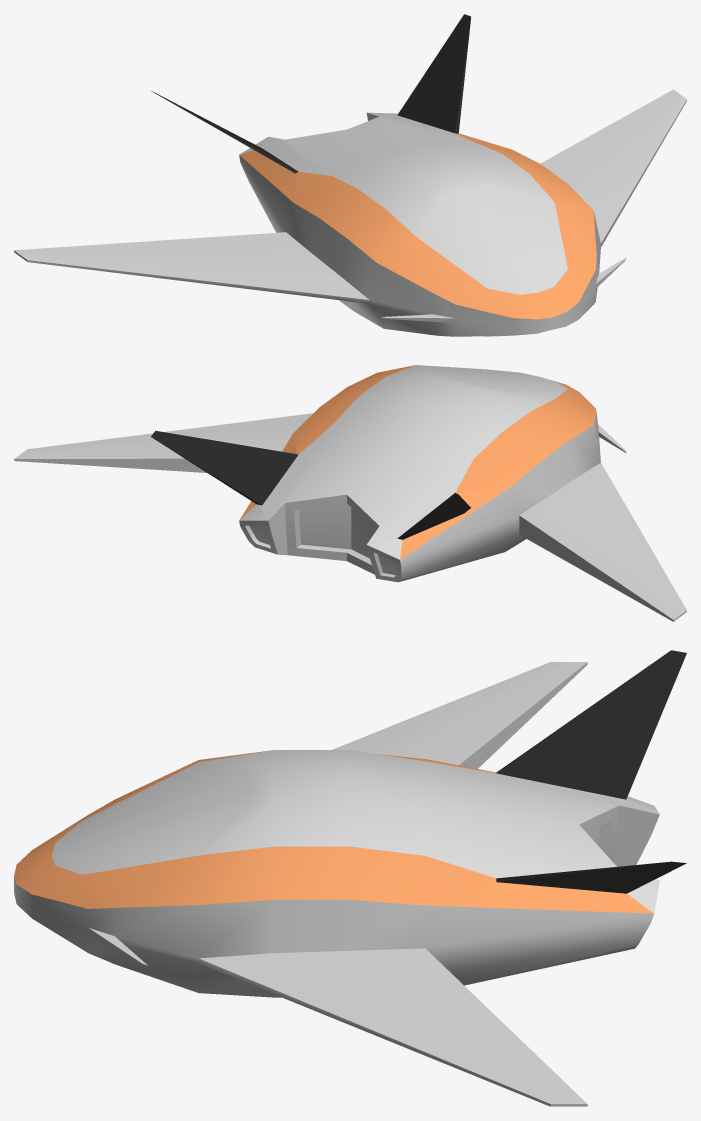
Rendered from ship_30.fbx.
3 views of the same model, one above another, from view 1: azimuth 30°, elevation 25°; view 2: azimuth 150°, elevation 25°; view 3: azimuth 270°, elevation 25° (orthographic). The views are drawn at different scales.
Visible parts, largest first — view 1: ship_30; view 2: ship_30; view 3: ship_30.
Boxes of the visible parts, left/top/right/bottom form: ship_30: left=14, top=14, right=686, bottom=336; ship_30: left=14, top=365, right=686, bottom=621; ship_30: left=14, top=650, right=686, bottom=1106.
Size of the model in its own units: 1144 by 222 by 736.
